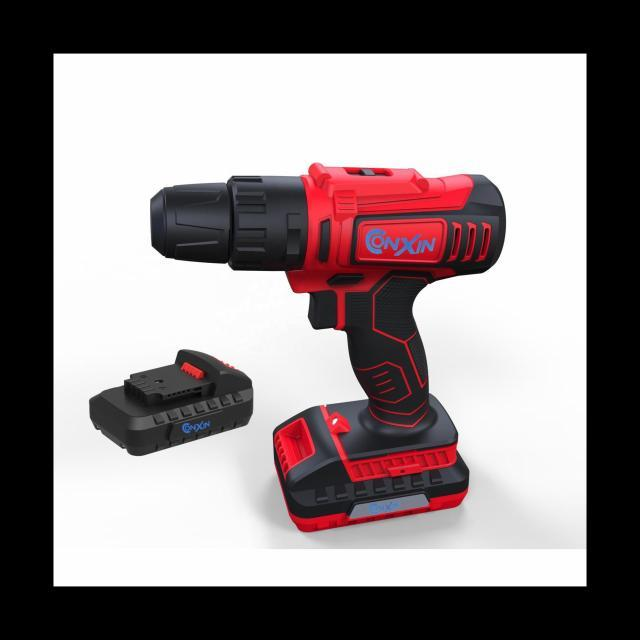drill: (150, 162, 508, 534), (88, 348, 254, 456)
